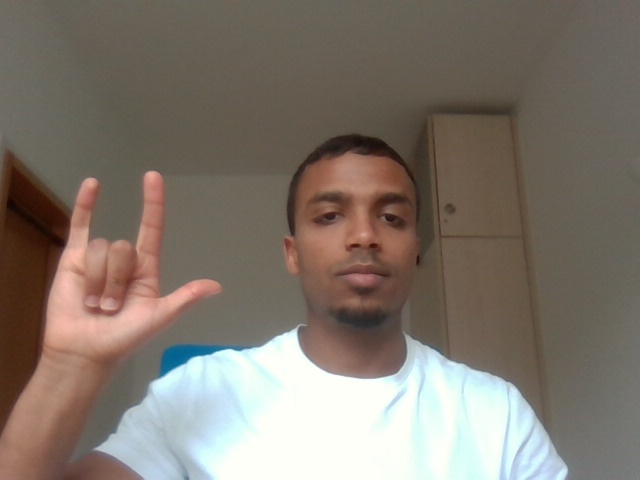absolutely: (41, 157, 233, 369)
